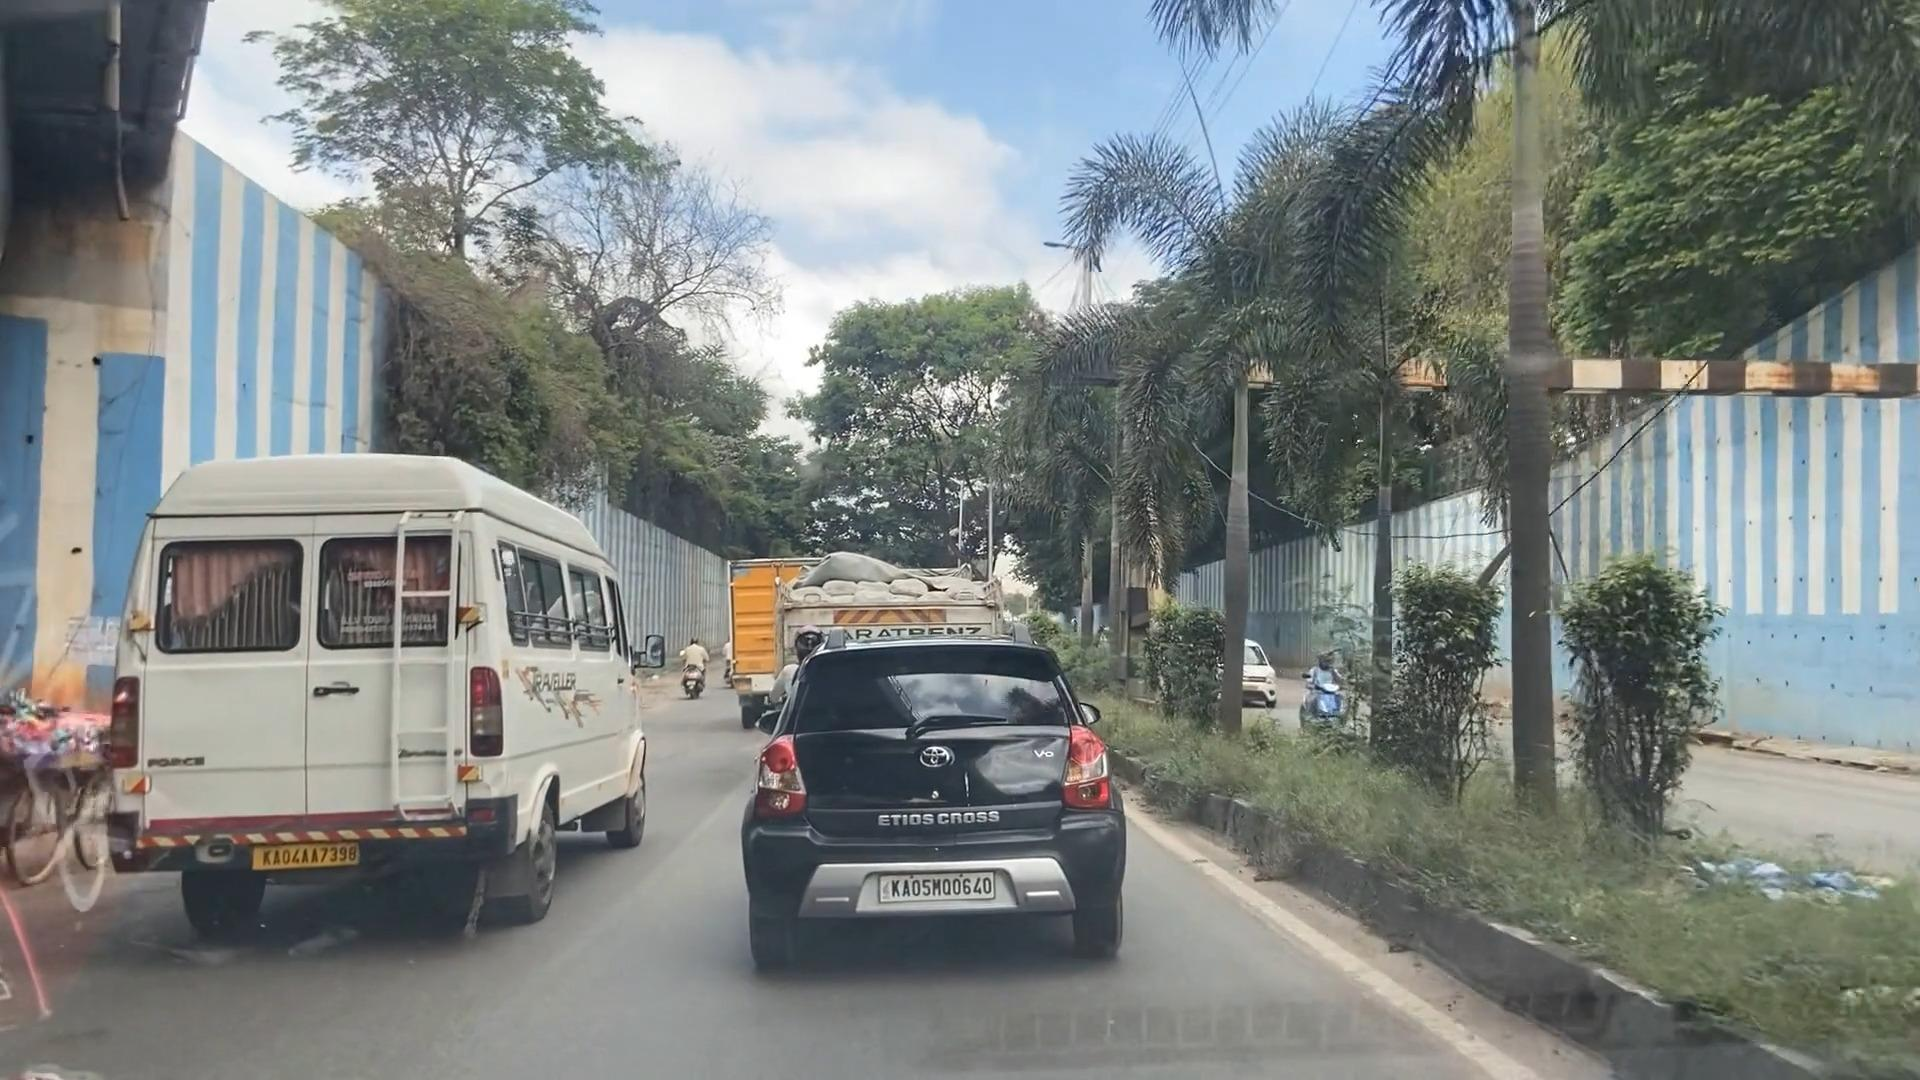HMV: (117, 444, 665, 963)
LMV: (717, 617, 1151, 1001)
